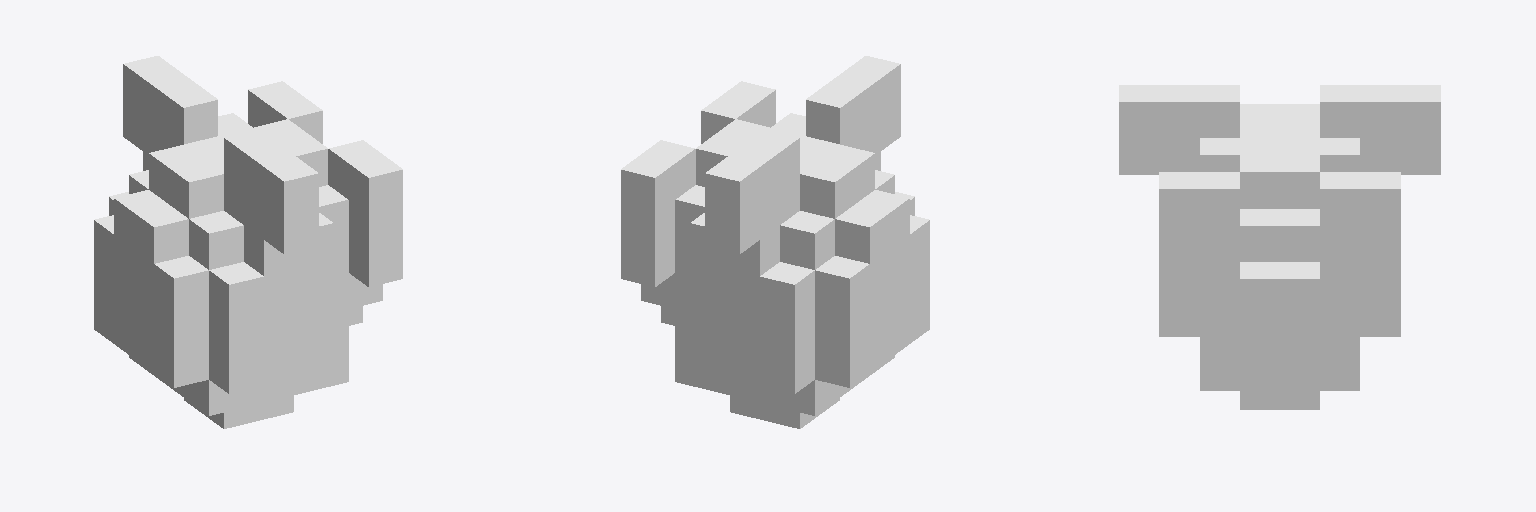
Rendered from javelina.obj.
3 renders of one model, left to right at view 1: azimuth 30°, elevation 25°; view 2: azimuth 150°, elevation 25°; view 3: azimuth 270°, elevation 25°, orthographic.
Parts seen in each view (by area): view 1: object 1; view 2: object 1; view 3: object 1.
Part boxes in pixels (x1,y1,x2,y2): object 1: (94, 56, 402, 428); object 1: (621, 56, 929, 428); object 1: (1119, 85, 1440, 409).
Size of the model in its own units: 0.7 by 0.8 by 0.8.